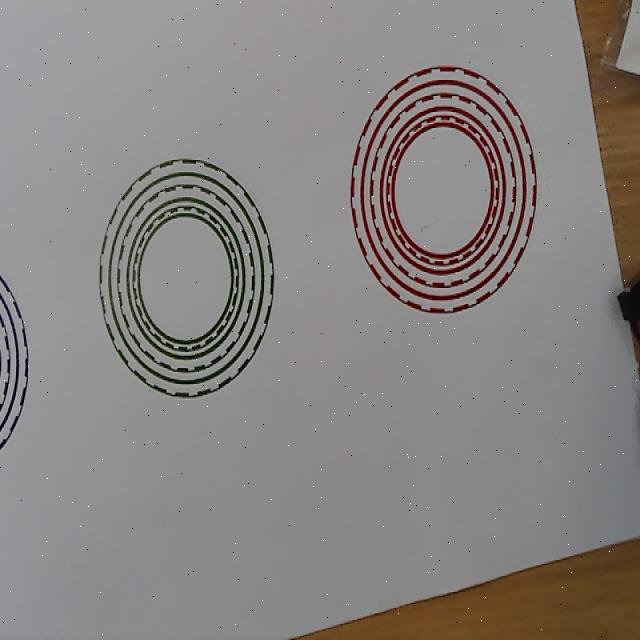g: (98, 157, 275, 398)
red-green-blue: (349, 65, 538, 315)
